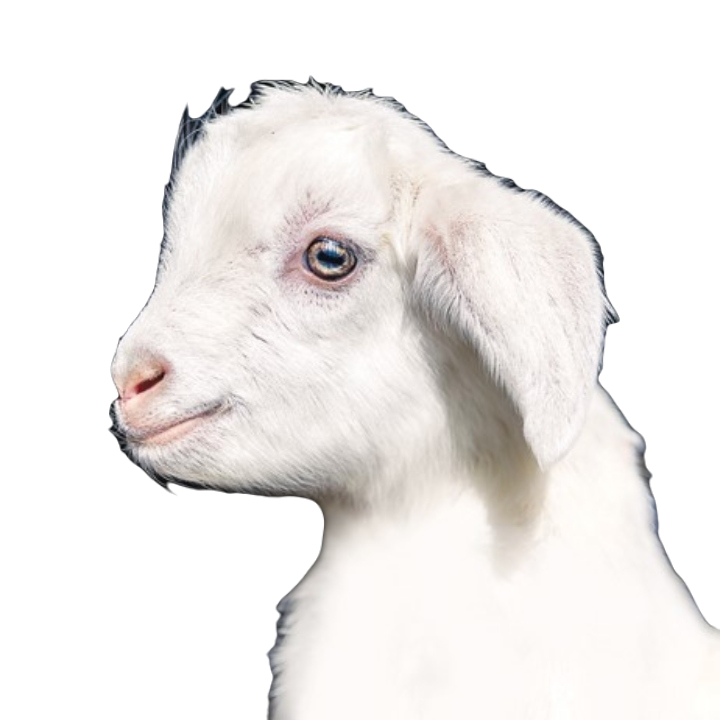Goat: (106, 74, 719, 719)
